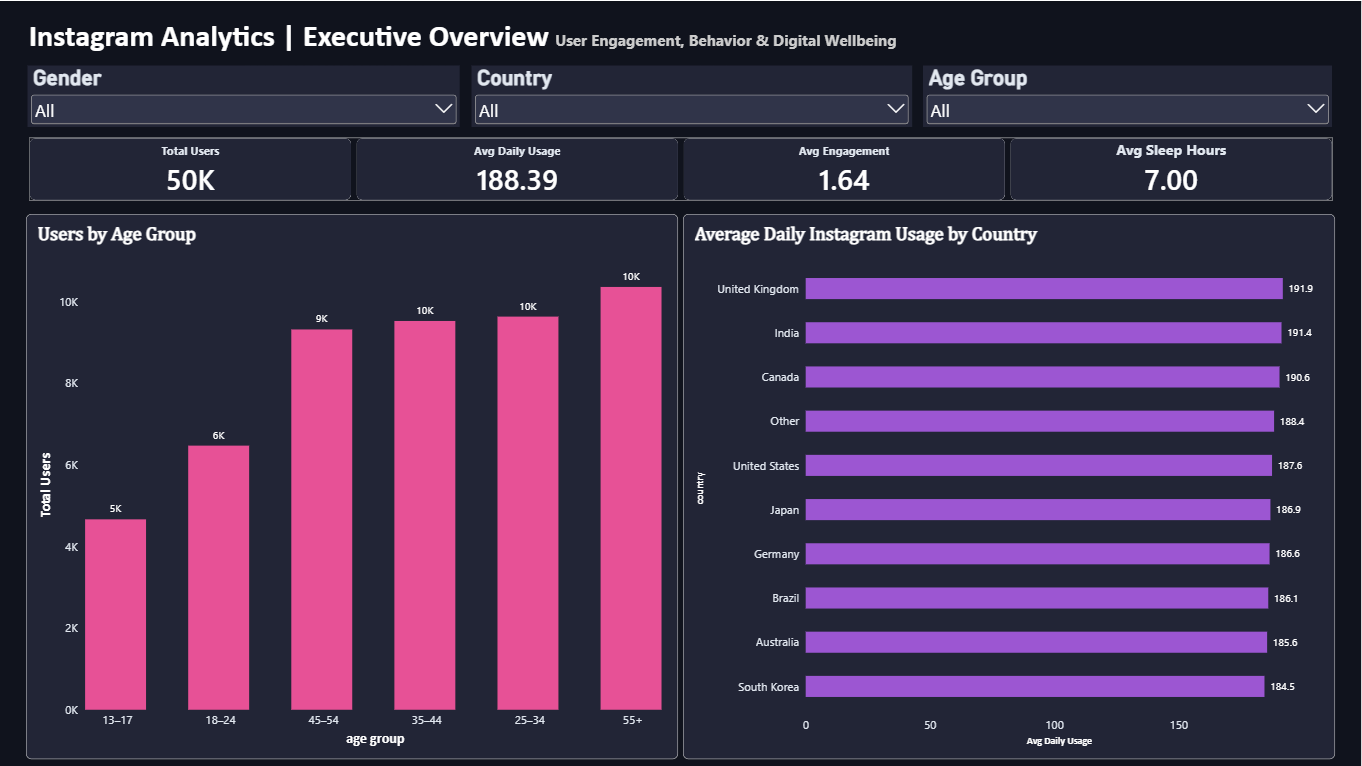

What the dashboard file says about the page in this screenshot:
{"tool":"powerbi","page":{"name":"01 - Executive Overview","canvas":[1920,1080],"ordinal":0},"visuals":[{"type":"cardVisual","fields":{"Data":["InstagramUsers.Total Users","InstagramUsers.Avg Daily Usage","InstagramUsers.Avg Engagement","InstagramUsers.Avg Sleep Hours"]},"box":[42.2,192.2,1840.4,89.1],"z":0},{"type":"clusteredColumnChart","title":"Users by Age Group","fields":{"Category":["InstagramUsers.age_group"],"Y":["InstagramUsers.Total Users"]},"box":[37.5,300.1,919,769],"z":1000},{"type":"clusteredBarChart","title":"Average Daily Instagram Usage by Country","fields":{"Category":["InstagramUsers.country"],"Y":["InstagramUsers.Avg Daily Usage"]},"box":[963.6,300.1,919,769],"z":2000},{"type":"slicer","fields":{"Values":["InstagramUsers.gender"]},"box":[39.9,91.4,609.6,86.7],"z":3000},{"type":"slicer","fields":{"Values":["InstagramUsers.age_group"]},"box":[1303.5,91.4,576.7,86.7],"z":4000},{"type":"slicer","fields":{"Values":["InstagramUsers.country"]},"box":[665.8,91.4,621.3,86.7],"z":5000},{"type":"textbox","box":[42.3,23.3,1334.5,59.2],"z":6000}]}

Visuals, with their boxes in screenshot pixels (x1, y1, x2, y2), scaled from the page's 1920x1080 canvas onto the 1362x766 screenshot:
cardVisual - InstagramUsers.Total Users x InstagramUsers.Avg Daily Usage: 30,136,1335,200
"Users by Age Group" clusteredColumnChart: 27,213,679,758
"Average Daily Instagram Usage by Country" clusteredBarChart: 684,213,1335,758
slicer - InstagramUsers.gender: 28,65,461,126
slicer - InstagramUsers.age_group: 925,65,1334,126
slicer - InstagramUsers.country: 472,65,913,126
textbox: 30,17,977,59
